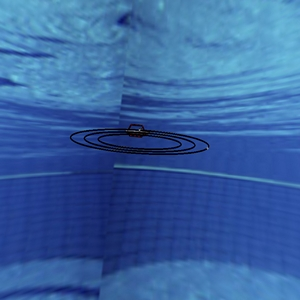circle: (60, 114, 223, 179)
submarine: (119, 115, 150, 143)
